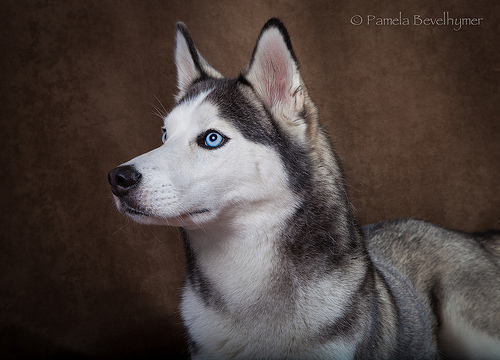dog: (106, 18, 497, 358)
